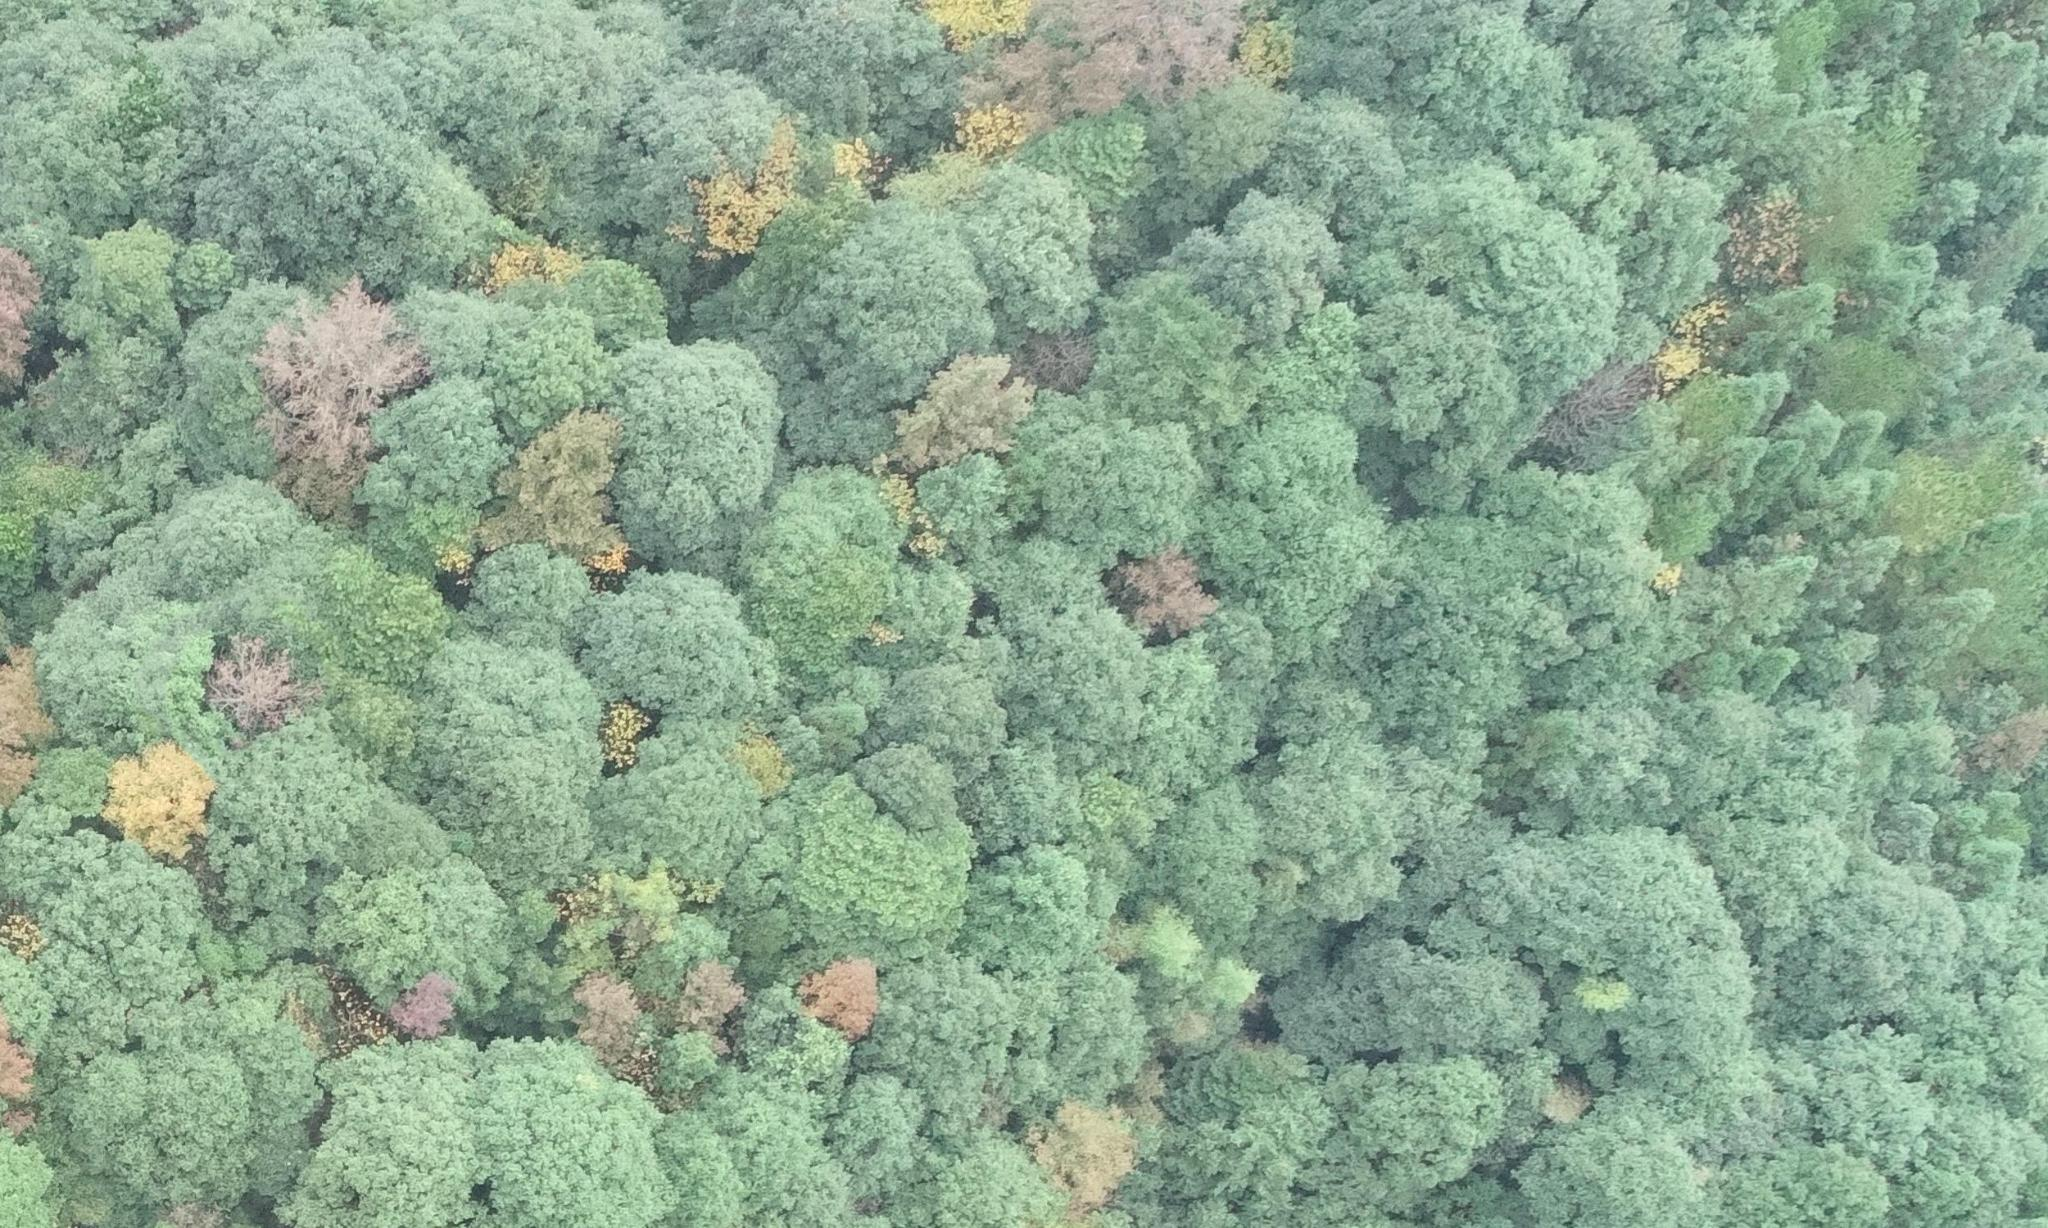dead: (243, 265, 463, 518)
heavy: (965, 7, 1291, 136), (779, 943, 953, 1061), (395, 969, 465, 1050)
light: (115, 729, 247, 868)
